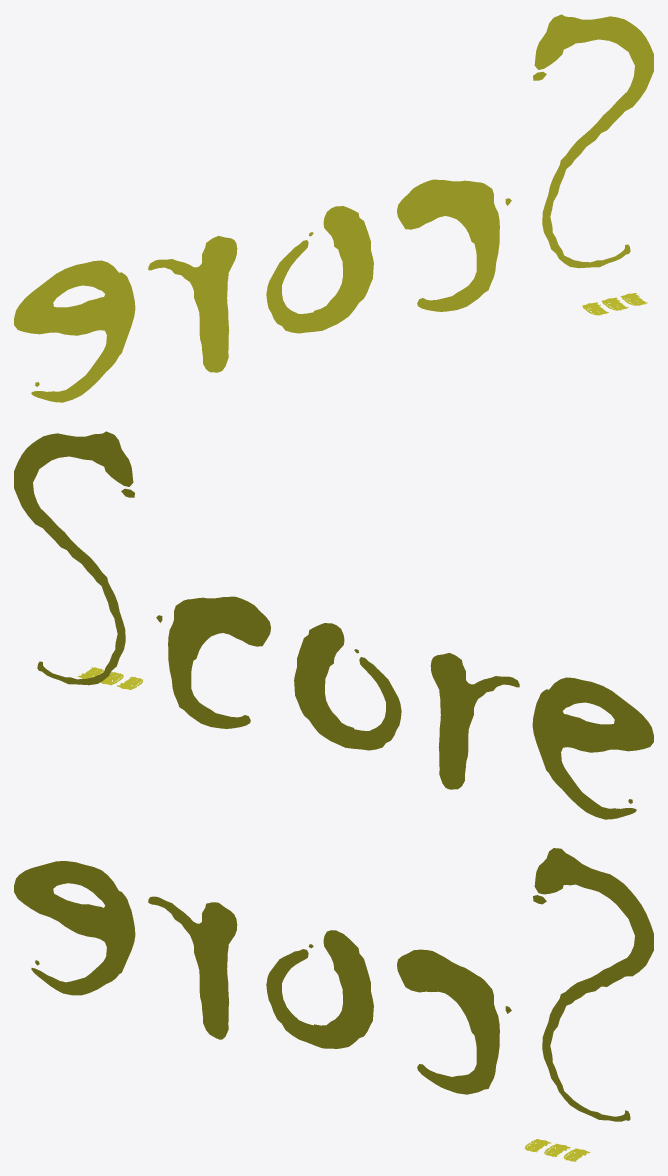
Rendered from scoreTextButtonText.obj.
3 renders of one model, top to bottom at view 1: azimuth 30°, elevation 25°; view 2: azimuth 150°, elevation 25°; view 3: azimuth 330°, elevation 25°, orthographic.
Parts seen in each view (by area): view 1: scoreTextButtonText; view 2: scoreTextButtonText; view 3: scoreTextButtonText.
Part boxes in pixels (bbox=[...]): scoreTextButtonText: bbox=[14, 14, 653, 402]; scoreTextButtonText: bbox=[14, 431, 653, 819]; scoreTextButtonText: bbox=[14, 848, 653, 1121].
Bounding box in the file's own units: 1.31 × 0.5375 × 0.1315.
